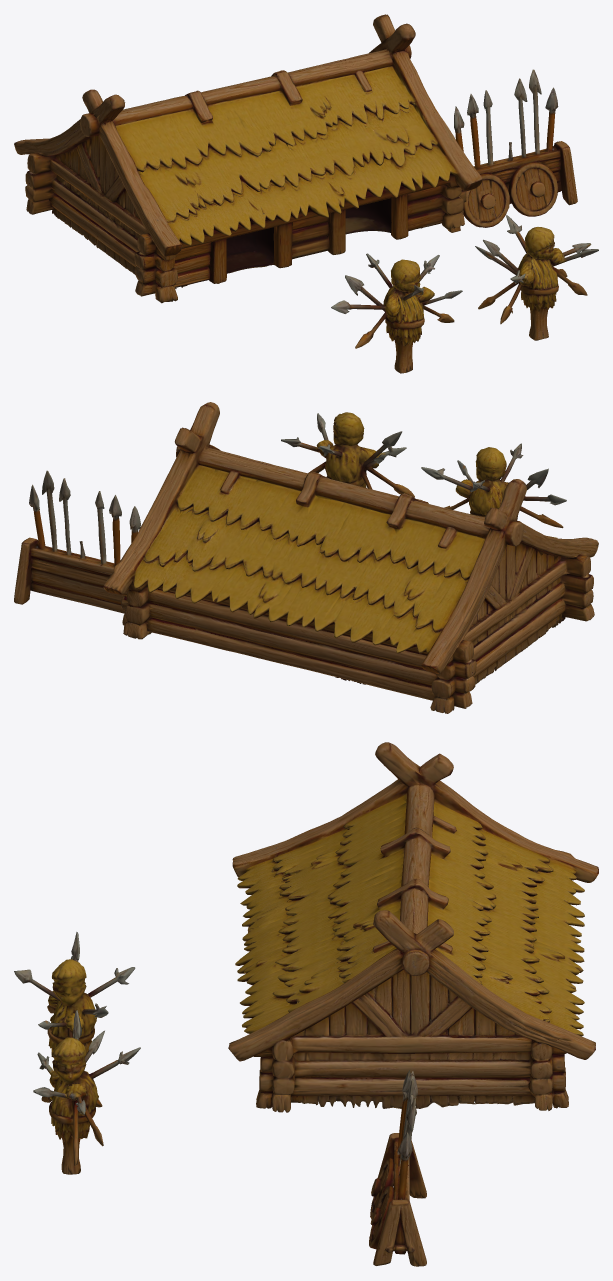
File: tripo_convert_e63214cf-2901-4842-a5da-e3f31c8018cb.fbx
3 renders of one model, top to bottom at view 1: azimuth 30°, elevation 25°; view 2: azimuth 150°, elevation 25°; view 3: azimuth 270°, elevation 25°, orthographic. The views are drawn at different scales.
Visible parts, largest first — view 1: tripo_node_e63214cf; view 2: tripo_node_e63214cf; view 3: tripo_node_e63214cf.
Boxes of the visible parts, left/top/right/bottom form: tripo_node_e63214cf: left=14, top=14, right=598, bottom=373; tripo_node_e63214cf: left=14, top=402, right=598, bottom=713; tripo_node_e63214cf: left=14, top=742, right=598, bottom=1266.
Size of the model in its own units: 0.9796 by 0.4238 by 0.86.
1 material, 1 textured.
